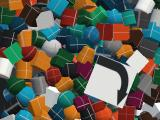Right: (84, 55, 138, 108)
